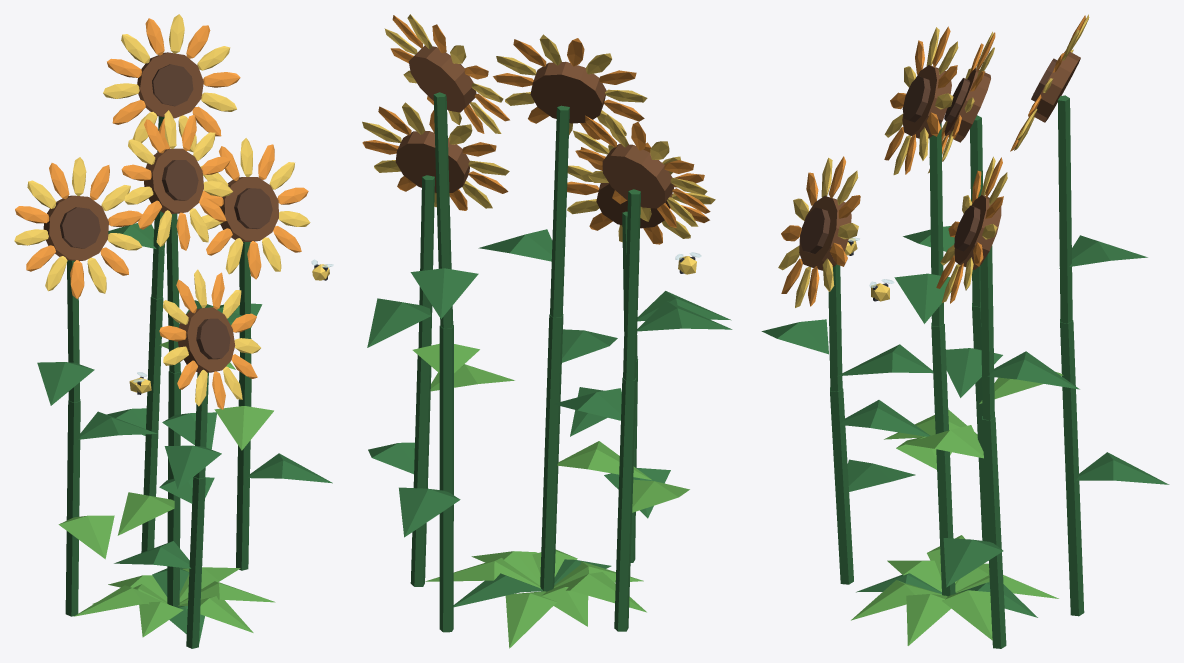
The model's file is sunflower_patch.glb.
The picture shows the model from 3 angles, left to right: view 1: azimuth 30°, elevation 25°; view 2: azimuth 150°, elevation 25°; view 3: azimuth 270°, elevation 25°; orthographic projection. The views are drawn at different scales.
Parts seen in each view (by area): view 1: Sunflower Patch; view 2: Sunflower Patch; view 3: Sunflower Patch.
Part boxes in pixels (x1,y1,x2,y2): Sunflower Patch: (14,14,333,648); Sunflower Patch: (362,14,732,648); Sunflower Patch: (761,14,1169,648).
Size of the model in its own units: 1.19 by 2 by 1.21.
Materials: 2 (1 with a texture image).
